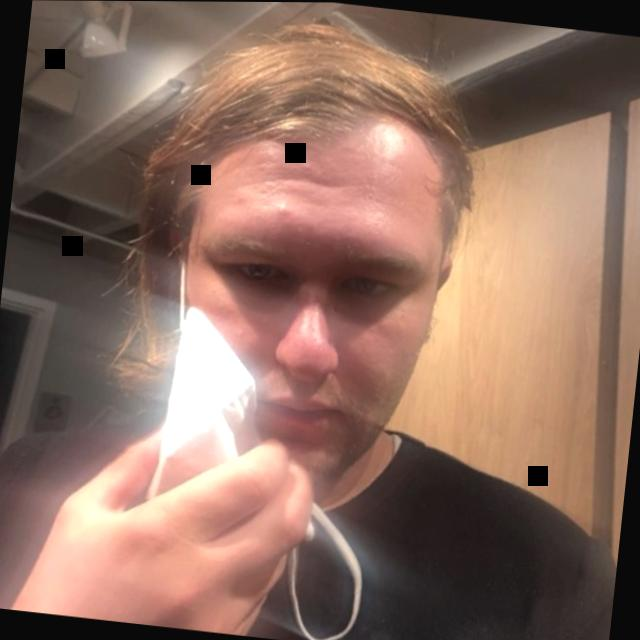NO-Mask: (121, 25, 508, 557)
